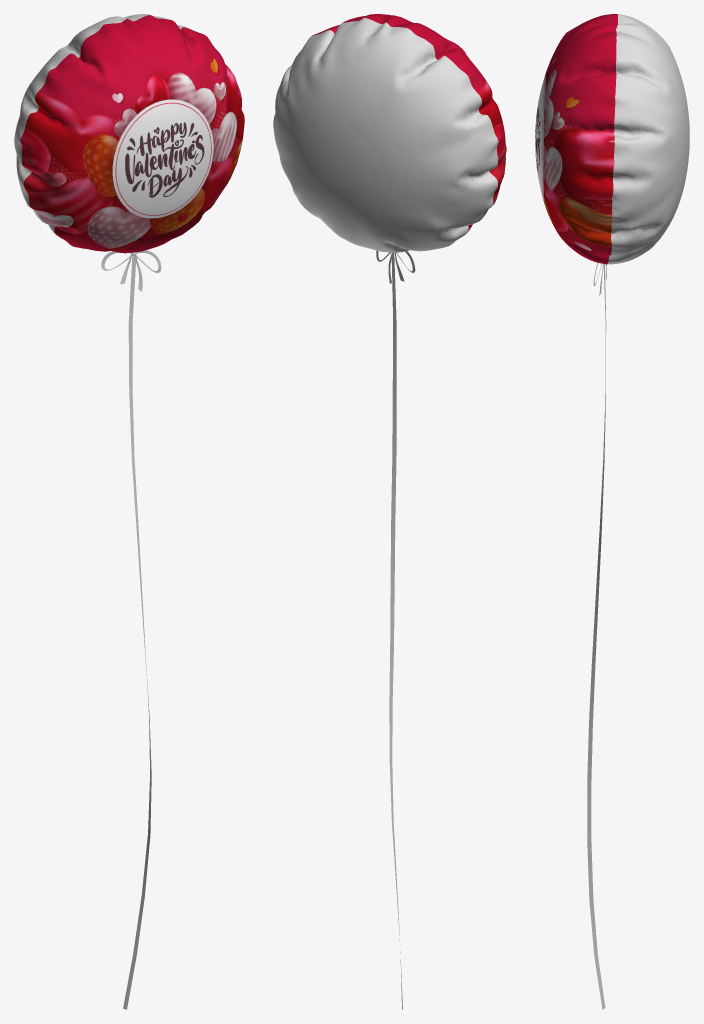
The picture shows the model from 3 angles, left to right: view 1: azimuth 30°, elevation 25°; view 2: azimuth 150°, elevation 25°; view 3: azimuth 270°, elevation 25°; orthographic projection.
Parts seen in each view (by area): view 1: Valentines-Round-2; view 2: Valentines-Round-2; view 3: Valentines-Round-2.
Part boxes in pixels (left/top/right/bottom): Valentines-Round-2: left=14, top=14, right=244, bottom=1009; Valentines-Round-2: left=273, top=14, right=506, bottom=1009; Valentines-Round-2: left=535, top=14, right=689, bottom=1009.
Bounding box in the file's own units: 40.89 × 176 × 24.99.
Materials: 3 (1 with a texture image).
